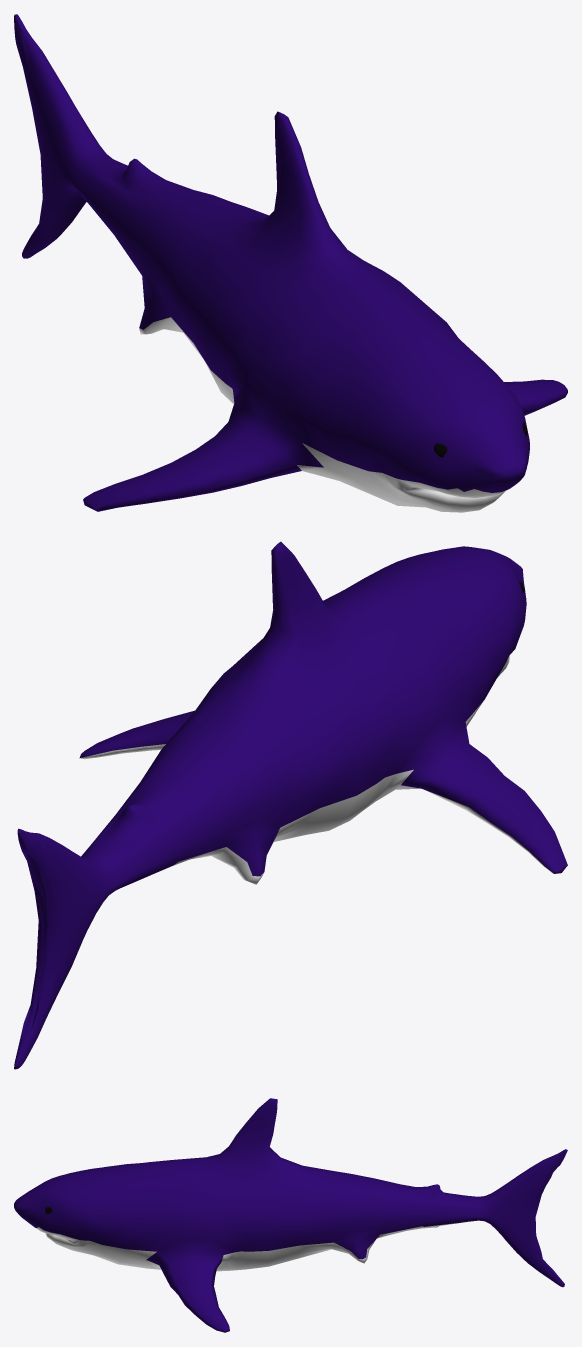
File: Shark.fbx
3 views of the same model, one above another, from view 1: azimuth 30°, elevation 25°; view 2: azimuth 150°, elevation 25°; view 3: azimuth 270°, elevation 25° (orthographic). The views are drawn at different scales.
Parts seen in each view (by area): view 1: Shark; view 2: Shark; view 3: Shark.
Part boxes in pixels (left/top/right/bottom): Shark: left=14, top=14, right=567, bottom=512; Shark: left=14, top=541, right=567, bottom=1069; Shark: left=14, top=1098, right=567, bottom=1332.
Bounding box in the file's own units: 6657 × 4456 × 11896.
